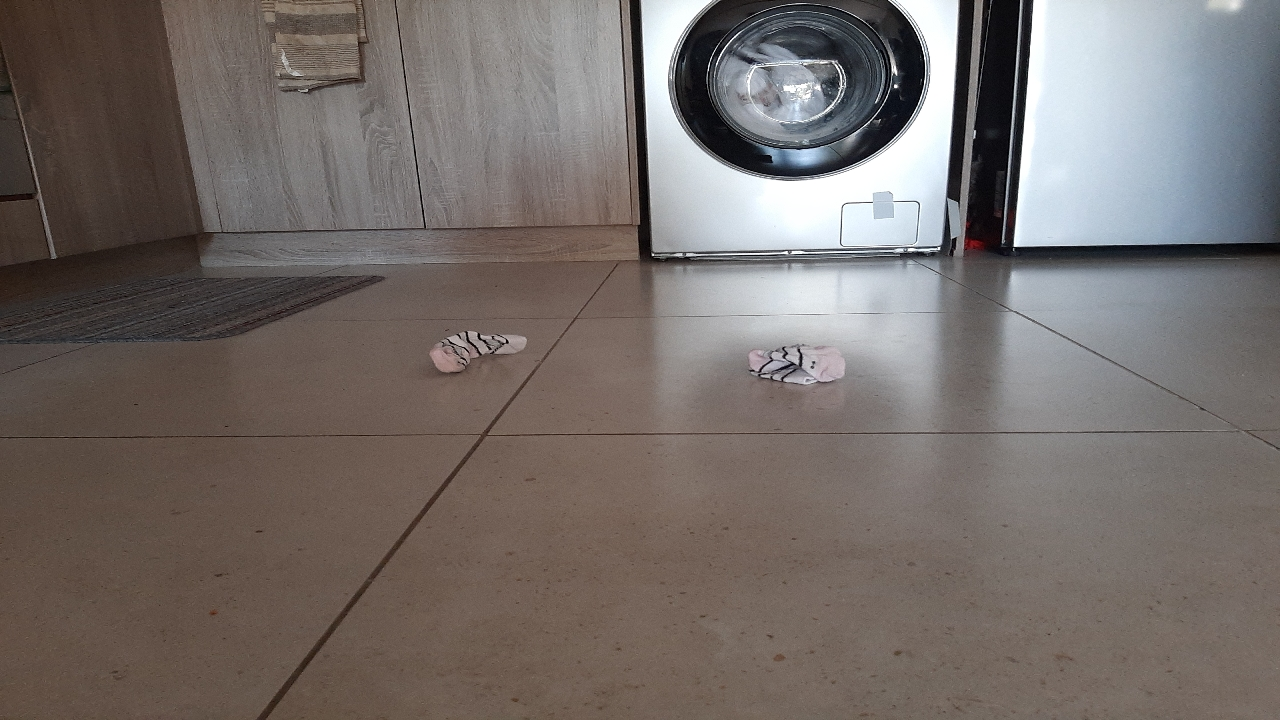socks: (396, 306, 871, 417)
